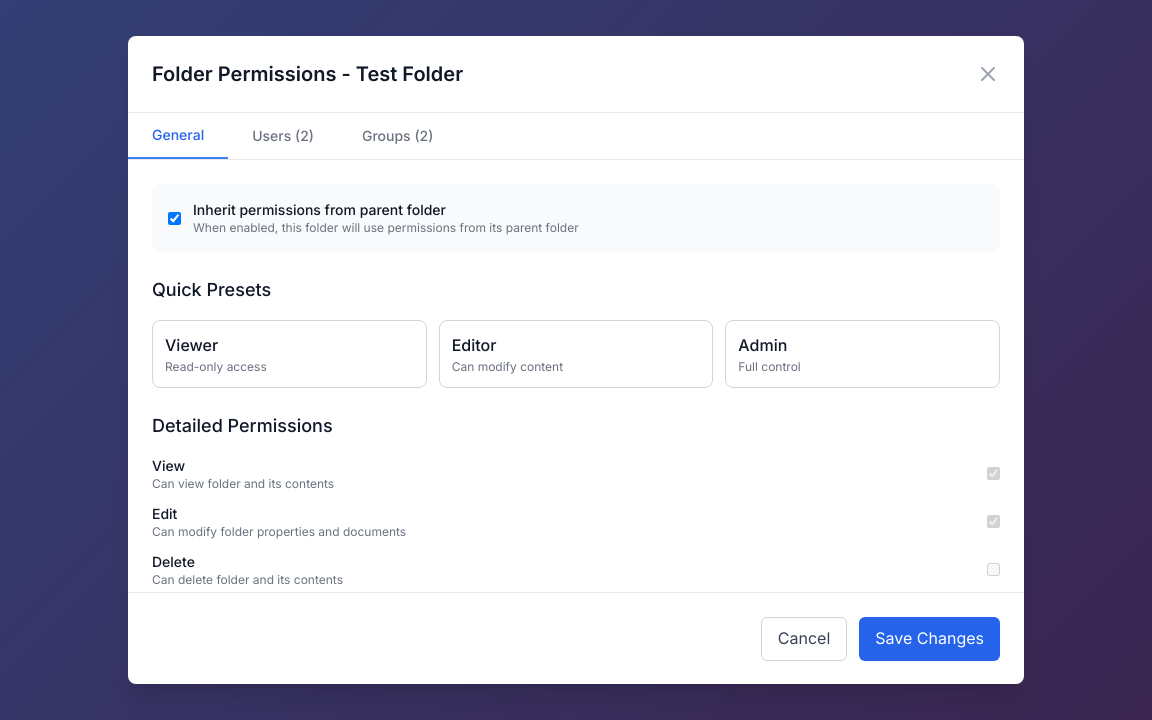
Scenario: FolderPermissions › Tab Navigation › can switch to groups tab
Click the button "Groups (2)".
click(398, 136)  # box [338, 113, 457, 159]
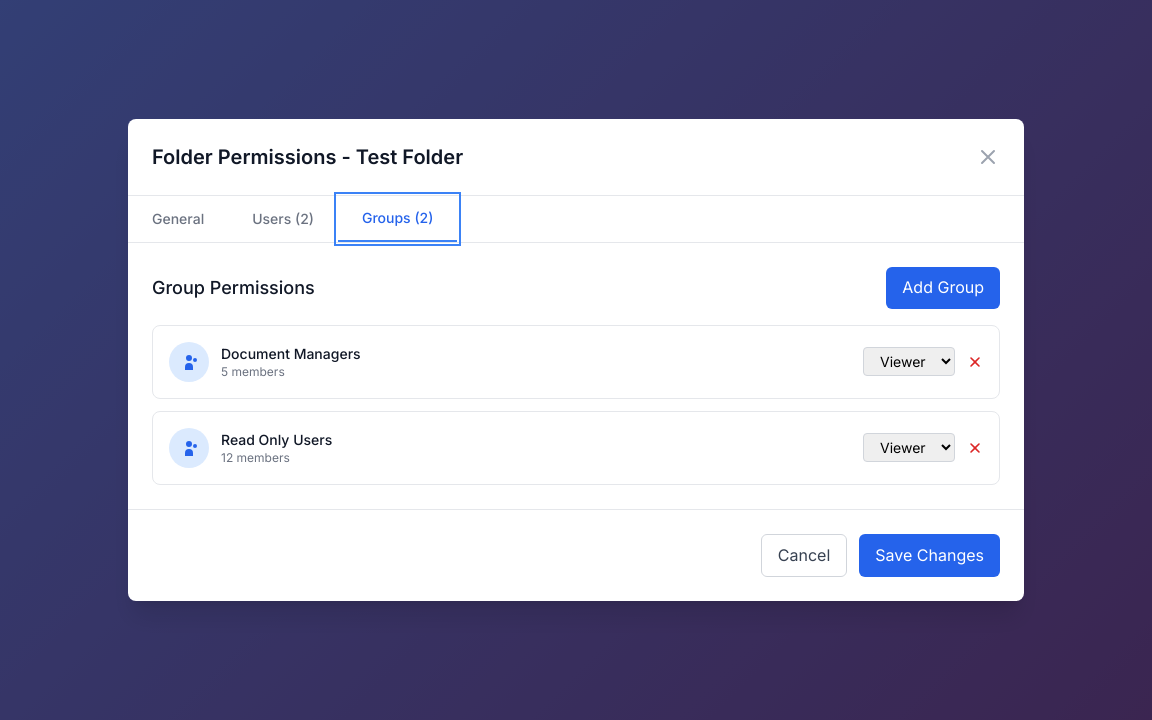
Check: the text "Document Managers" is shown, box [221, 344, 361, 364]
